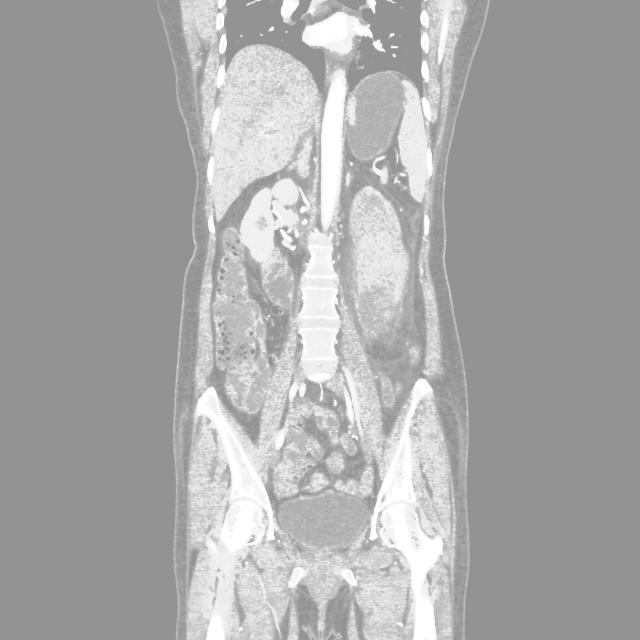TUMOR: (150, 185, 548, 444)
